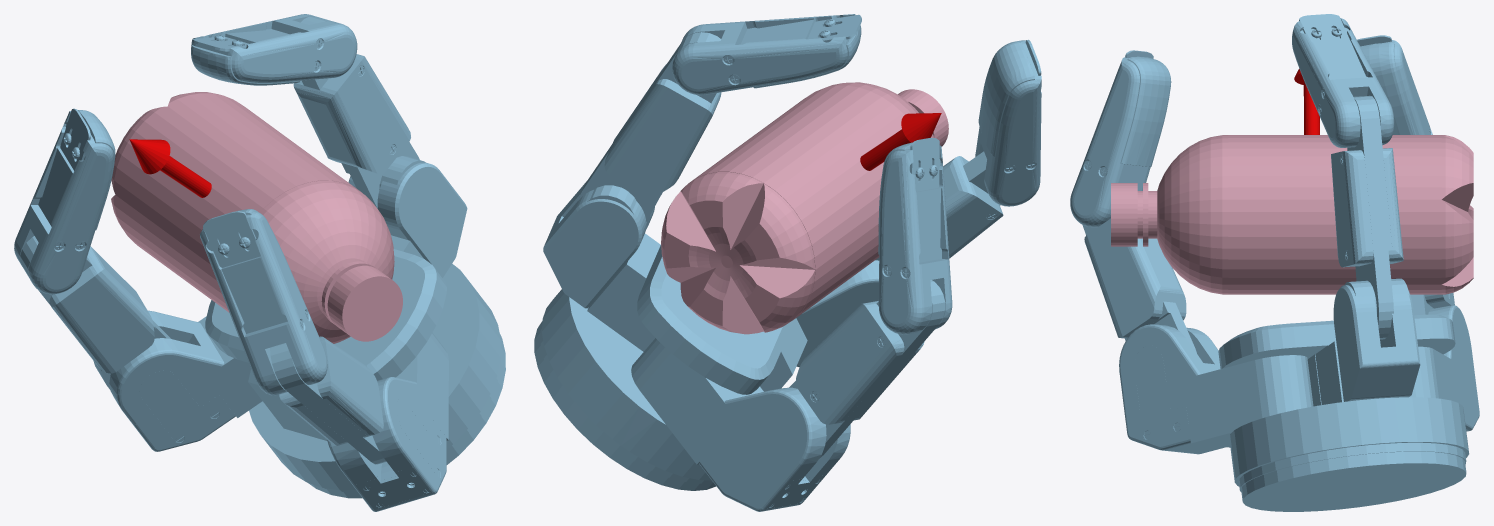
The picture shows the model from 3 angles, left to right: view 1: azimuth 30°, elevation 25°; view 2: azimuth 150°, elevation 25°; view 3: azimuth 270°, elevation 25°; orthographic projection. The views are drawn at different scales.
Parts seen in each view (by area): view 1: world, water_bottle.stl; view 2: world, water_bottle.stl; view 3: world, water_bottle.stl.
Part boxes in pixels (x1,y1,x2,y2): world: (14,14,505,511); water_bottle.stl: (111,92,402,343); world: (534,14,1041,511); water_bottle.stl: (661,82,948,334); world: (1070,14,1479,511); water_bottle.stl: (1111,135,1473,294).
Size of the model in its own units: 0.1703 by 0.1833 by 0.1542.
